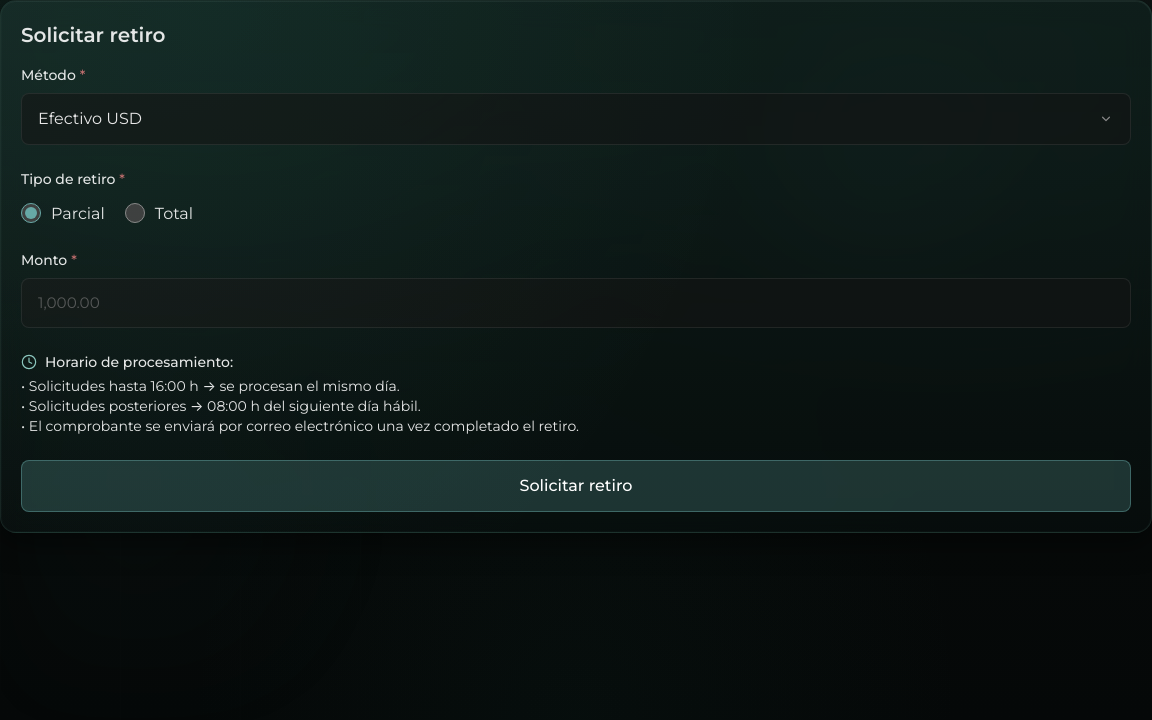
Test: WithdrawalForm › submits request and shows success modal after confirm
This screenshot has width=1152, height=720.
Step 1. Type "50" into the number field labelled "Monto*" → point(576, 303), box [21, 278, 1131, 328]
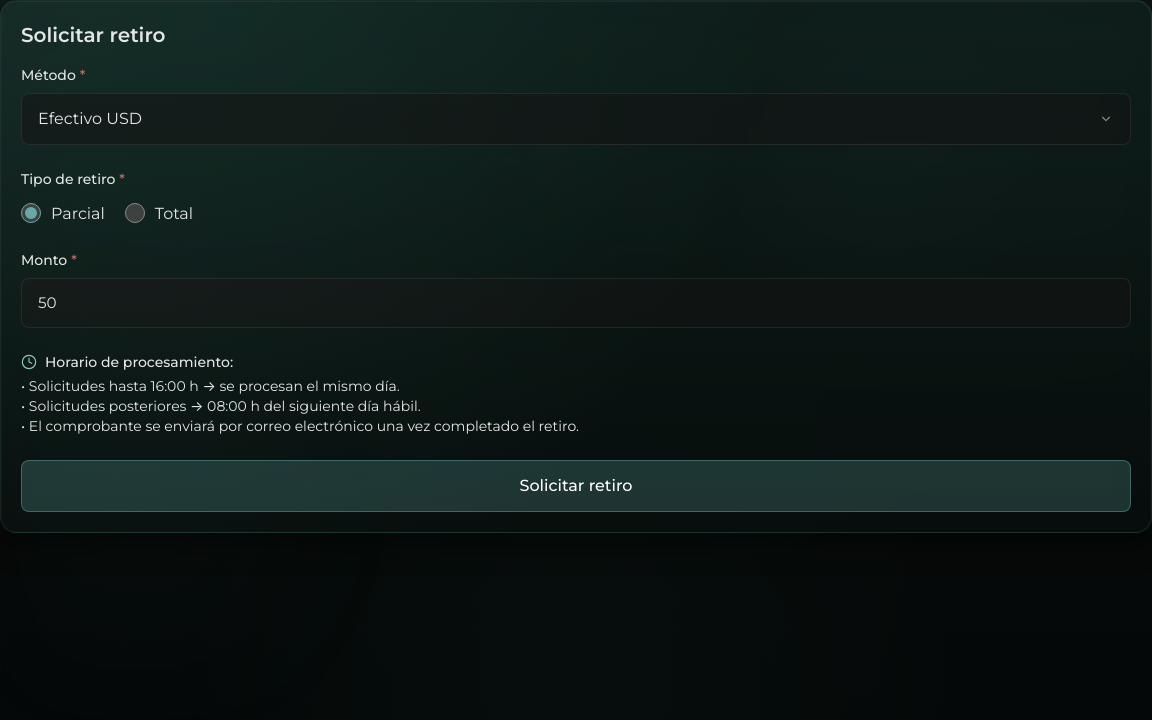
Step 2. Submit the form, box [21, 65, 1131, 512]
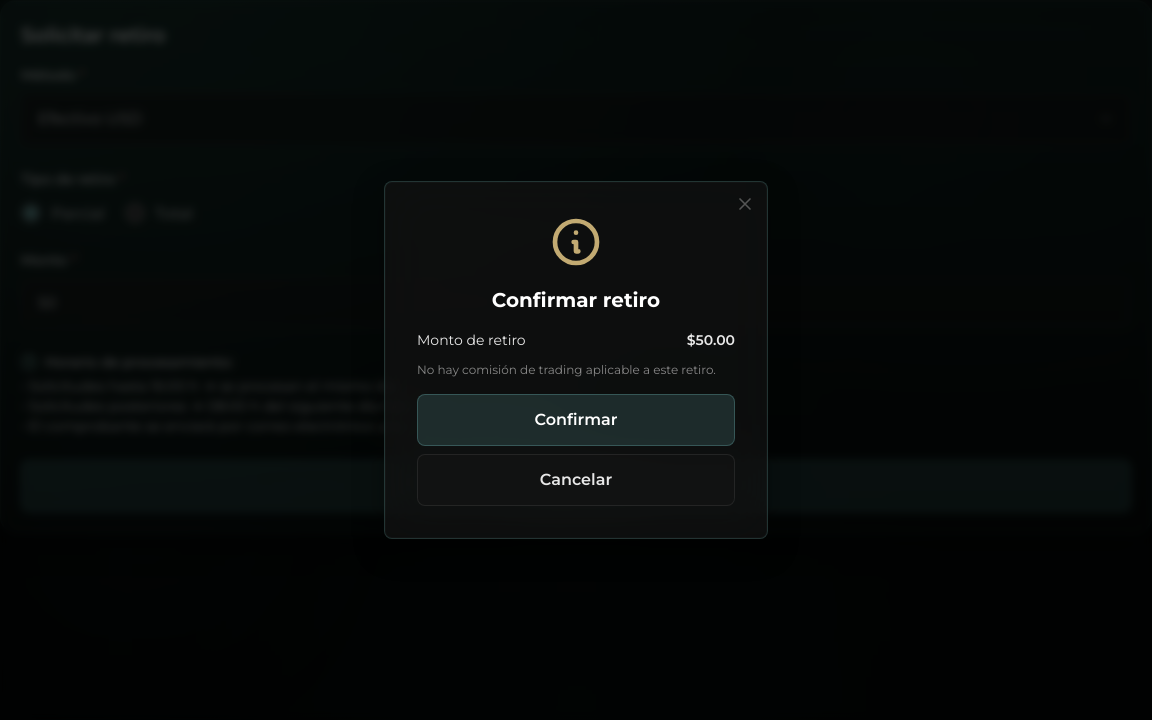
Expected: the heading "Confirmar retiro" is shown, [492, 286, 660, 314]
Step 3. Click the button "Confirmar" → point(576, 420), box [417, 394, 735, 446]
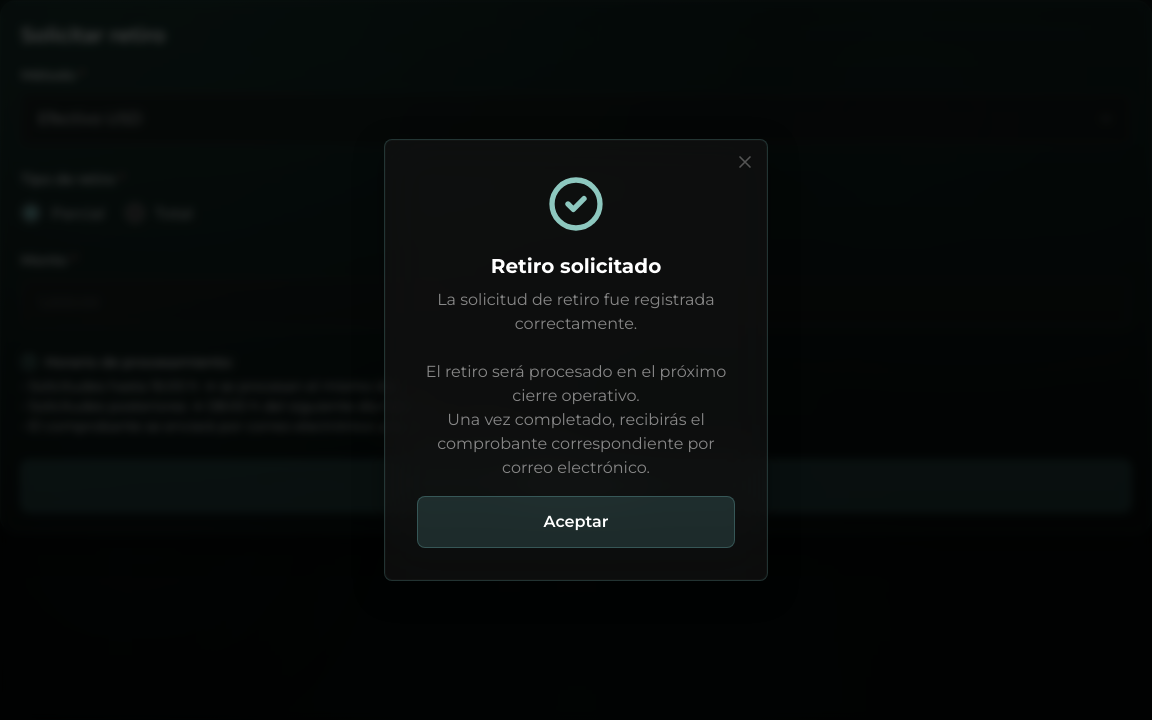
Expected: the heading "Retiro solicitado" is shown, [491, 254, 661, 278]
Expected: the button "Aceptar" is shown, [417, 496, 735, 548]
